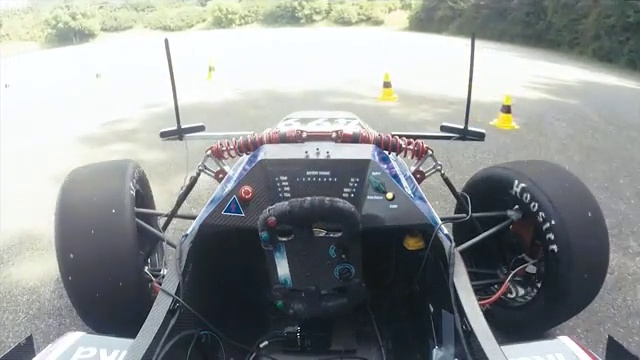Cone: (491, 94, 520, 131), (378, 71, 398, 103)
